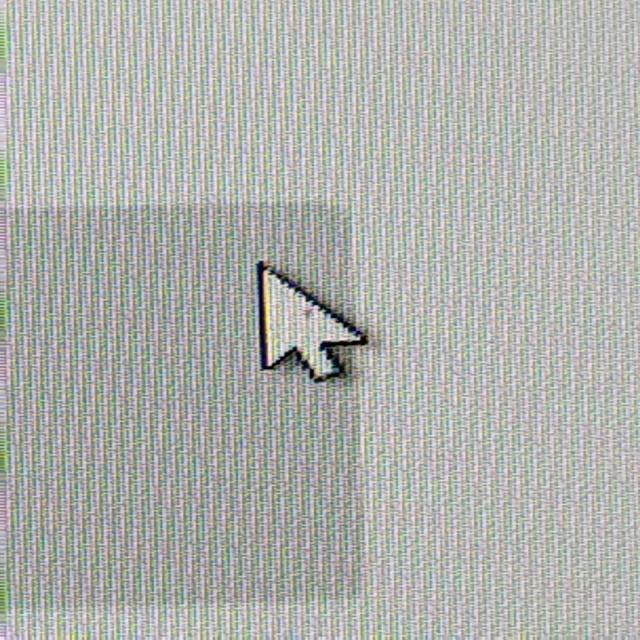Dead pixel: (301, 309, 315, 318)
